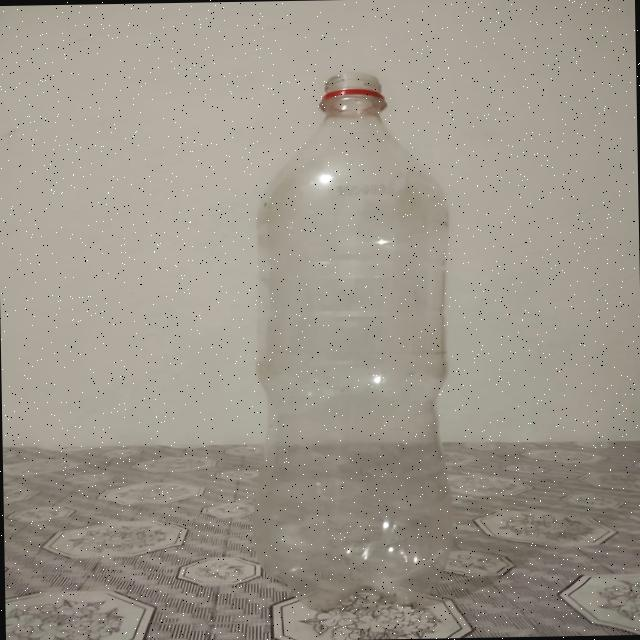bottle: (242, 63, 466, 610)
